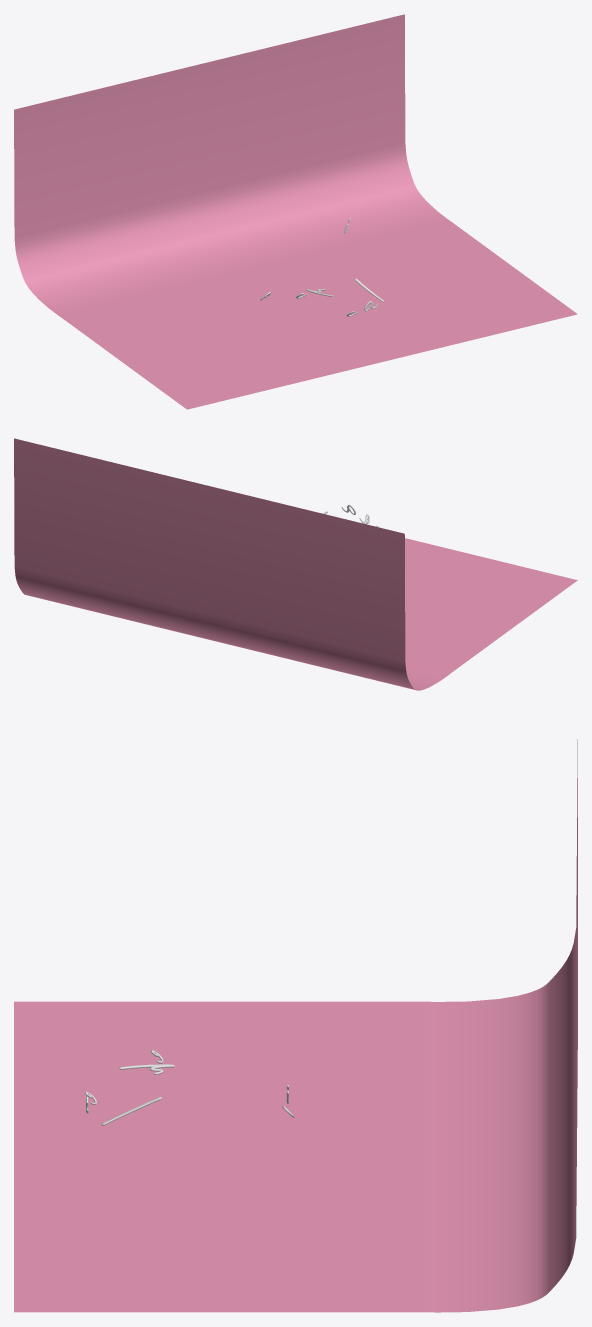
Rendered from hli.gltf.
The picture shows the model from 3 angles, top to bottom: view 1: azimuth 30°, elevation 25°; view 2: azimuth 150°, elevation 25°; view 3: azimuth 270°, elevation 25°; orthographic projection. The views are drawn at different scales.
Parts seen in each view (by area): view 1: tochi; view 2: tochi; view 3: tochi.
Boxes of the visible parts, box(x1,y1,x2,y2) form: tochi: box(14, 14, 577, 409); tochi: box(14, 438, 577, 690); tochi: box(14, 739, 577, 1312).
Size of what is drawn, in the model's own units: 20 by 8.48 by 15.35.
